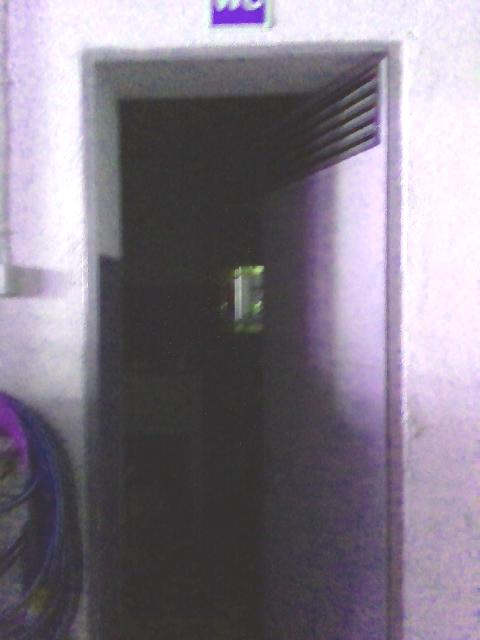semi_door: (80, 42, 402, 639)
